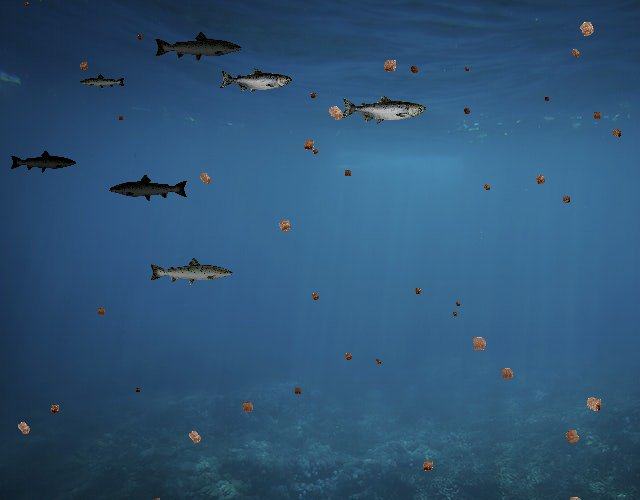Fish: (153, 31, 243, 63), (148, 256, 234, 287), (340, 94, 426, 125), (108, 173, 189, 202), (219, 67, 292, 94), (10, 149, 78, 174), (79, 74, 126, 91)
Pellet: (320, 98, 350, 128), (465, 329, 493, 357), (495, 361, 519, 385), (193, 167, 217, 191), (530, 169, 550, 189), (309, 145, 322, 158), (450, 308, 460, 318)
